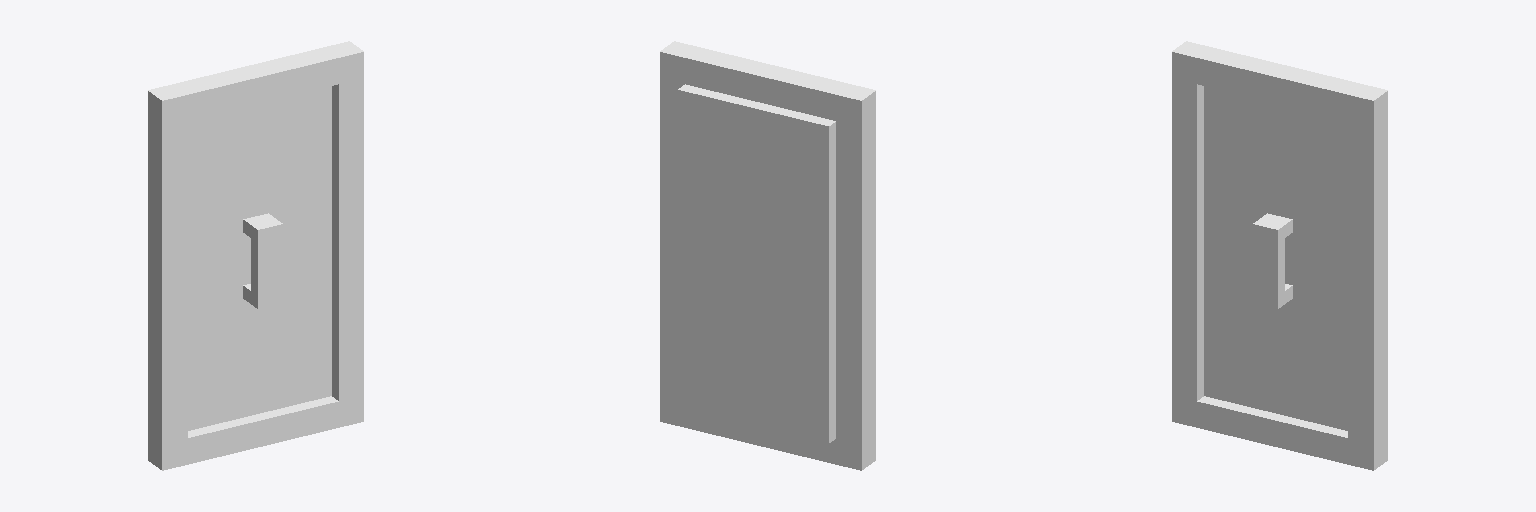
File: shieldRectangle.vox.obj
3 renders of one model, left to right at view 1: azimuth 30°, elevation 25°; view 2: azimuth 150°, elevation 25°; view 3: azimuth 330°, elevation 25°, orthographic.
Visible parts, largest first — view 1: object 1; view 2: object 1; view 3: object 1.
Boxes of the visible parts, x1=… form: object 1: x1=148, y1=41, x2=363, y2=470; object 1: x1=660, y1=41, x2=875, y2=470; object 1: x1=1172, y1=41, x2=1387, y2=470.
Bounding box in the file's own units: 1.6 × 2.8 × 0.4.